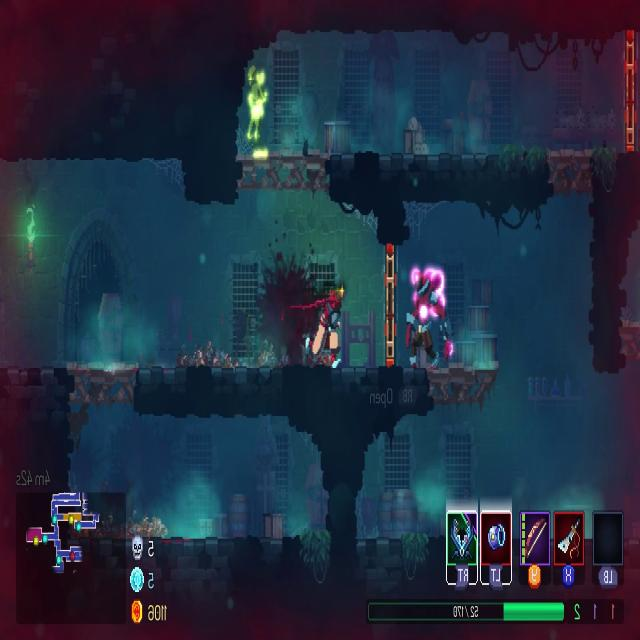agents: (303, 278, 347, 371)
enemy_green_puncher: (245, 68, 268, 164)
enemy_purple_big: (406, 270, 451, 373)
